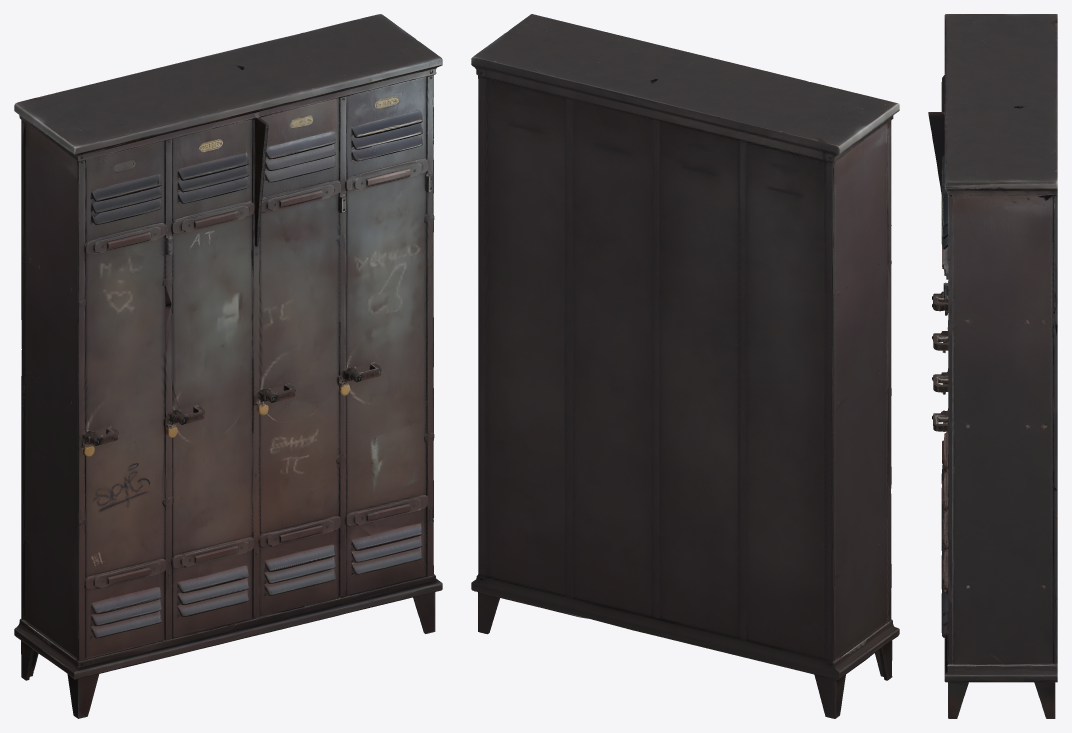
File: lockers.glb
The picture shows the model from 3 angles, left to right: view 1: azimuth 30°, elevation 25°; view 2: azimuth 150°, elevation 25°; view 3: azimuth 270°, elevation 25°; orthographic projection. The views are drawn at different scales.
Visible parts, largest first — view 1: output_unwrapped; view 2: output_unwrapped; view 3: output_unwrapped.
Boxes of the visible parts, bbox=[...] form: output_unwrapped: bbox=[14, 14, 442, 718]; output_unwrapped: bbox=[471, 14, 899, 718]; output_unwrapped: bbox=[928, 14, 1057, 718].
Size of the model in its own units: 1.27 by 1.9 by 0.4125.
Materials: 1 (1 with a texture image).
